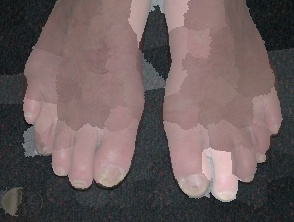Nail_psoriasis: (86, 150, 135, 197), (175, 162, 216, 202), (208, 183, 242, 208), (32, 138, 56, 160), (67, 176, 91, 194), (51, 161, 71, 180), (268, 117, 287, 137), (253, 146, 270, 165), (22, 108, 39, 126), (239, 173, 257, 184)
